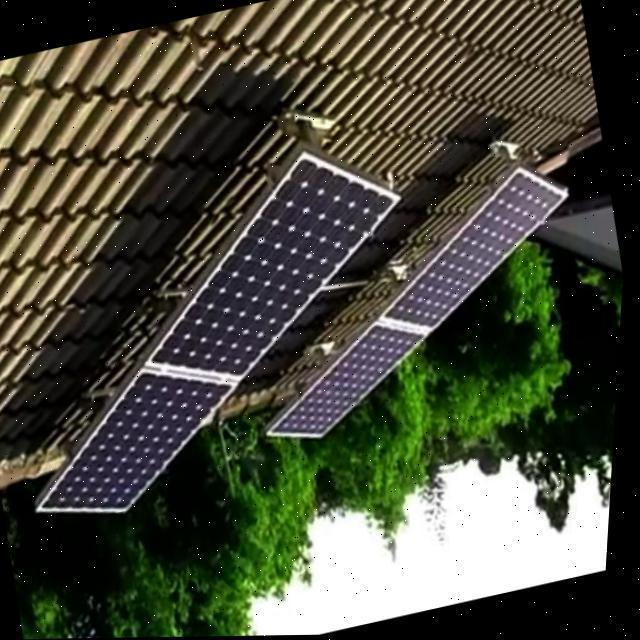Normal Solar Panel: (0, 121, 456, 530), (233, 161, 603, 448)
